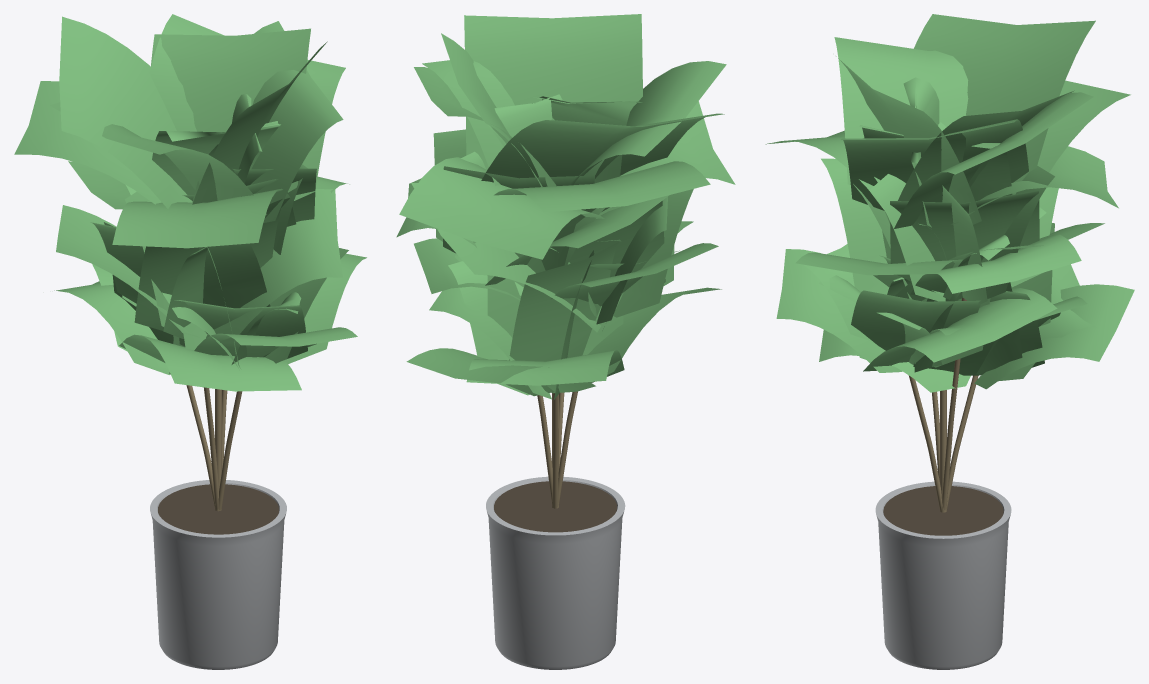
File: corr_palm_a.fbx
3 views of the same model, side by side, from view 1: azimuth 30°, elevation 25°; view 2: azimuth 150°, elevation 25°; view 3: azimuth 270°, elevation 25° (orthographic). The views are drawn at different scales.
Parts seen in each view (by area): view 1: EQ_corr_palm_a_M_PalmFrond, EQ_corr_palm_a_M_PlanterGrey, EQ_corr_palm_a_M_Soil, EQ_corr_palm_a_M_Stem; view 2: EQ_corr_palm_a_M_PalmFrond, EQ_corr_palm_a_M_PlanterGrey, EQ_corr_palm_a_M_Soil, EQ_corr_palm_a_M_Stem; view 3: EQ_corr_palm_a_M_PalmFrond, EQ_corr_palm_a_M_PlanterGrey, EQ_corr_palm_a_M_Soil, EQ_corr_palm_a_M_Stem.
Part boxes in pixels (x1,y1,x2,y2): EQ_corr_palm_a_M_PalmFrond: [14, 14, 366, 391]; EQ_corr_palm_a_M_PlanterGrey: [150, 480, 286, 669]; EQ_corr_palm_a_M_Soil: [158, 484, 278, 534]; EQ_corr_palm_a_M_Stem: [186, 385, 242, 511]; EQ_corr_palm_a_M_PalmFrond: [396, 14, 735, 399]; EQ_corr_palm_a_M_PlanterGrey: [486, 476, 625, 669]; EQ_corr_palm_a_M_Soil: [494, 481, 616, 532]; EQ_corr_palm_a_M_Stem: [537, 391, 577, 508]; EQ_corr_palm_a_M_PalmFrond: [765, 14, 1134, 392]; EQ_corr_palm_a_M_PlanterGrey: [875, 481, 1011, 669]; EQ_corr_palm_a_M_Soil: [883, 486, 1003, 535]; EQ_corr_palm_a_M_Stem: [908, 298, 978, 512].
Size of the model in its own units: 1.53 by 2.67 by 1.53.
